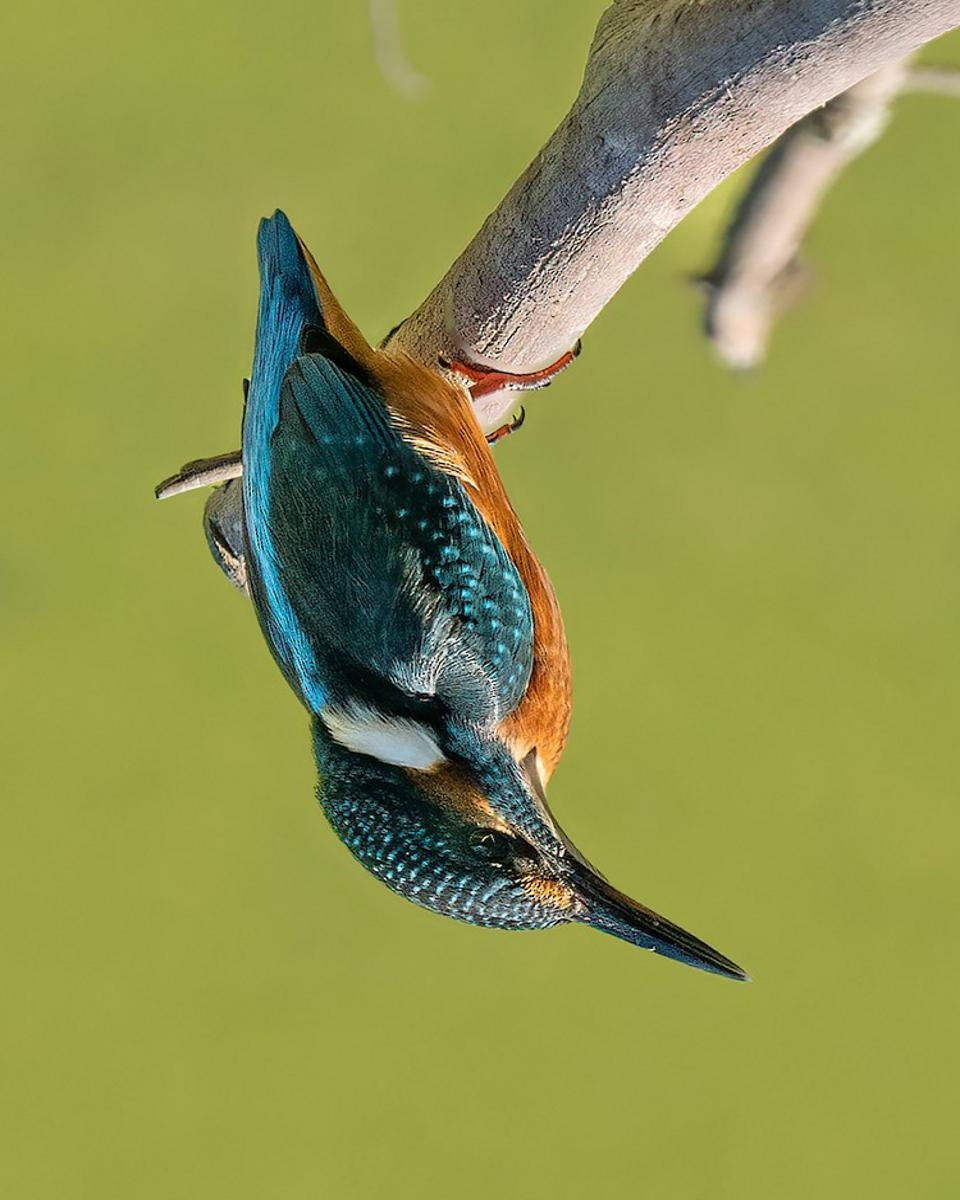kingfisher: (227, 207, 765, 1032)
